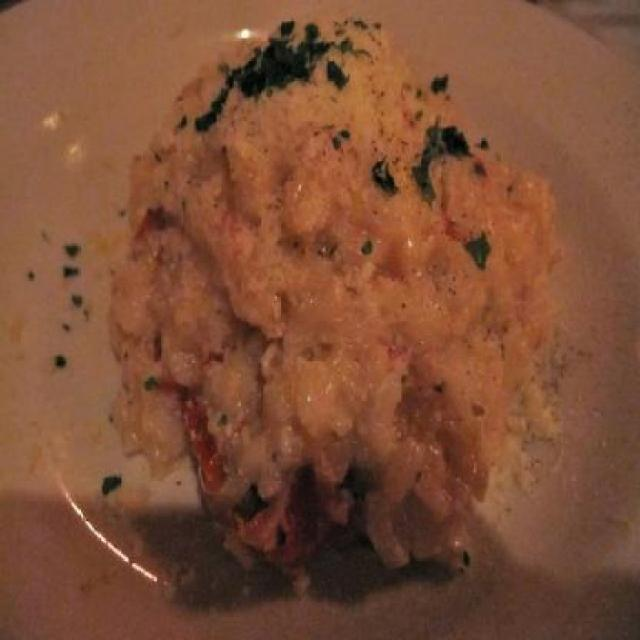Risotto: (104, 39, 566, 587)
